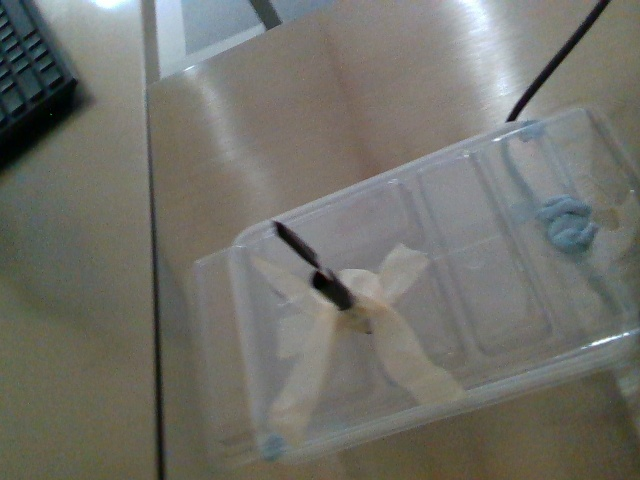test_strip: (268, 217, 330, 277)
